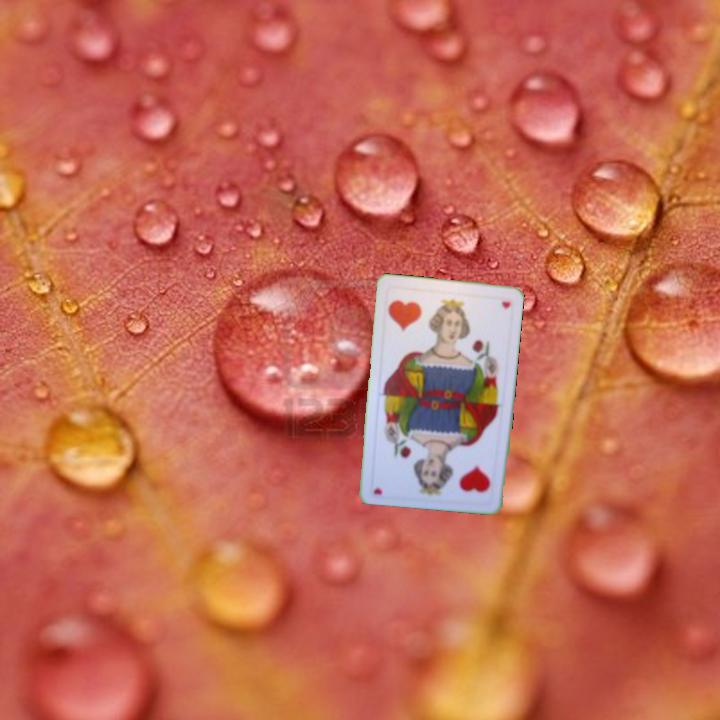h_q.png: (428, 442, 500, 505), (381, 284, 453, 347)
